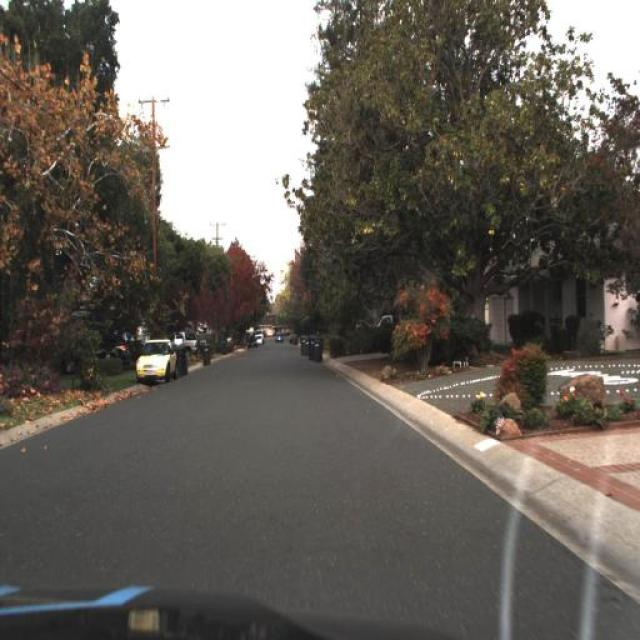car: (132, 327, 183, 388), (105, 332, 134, 363)
